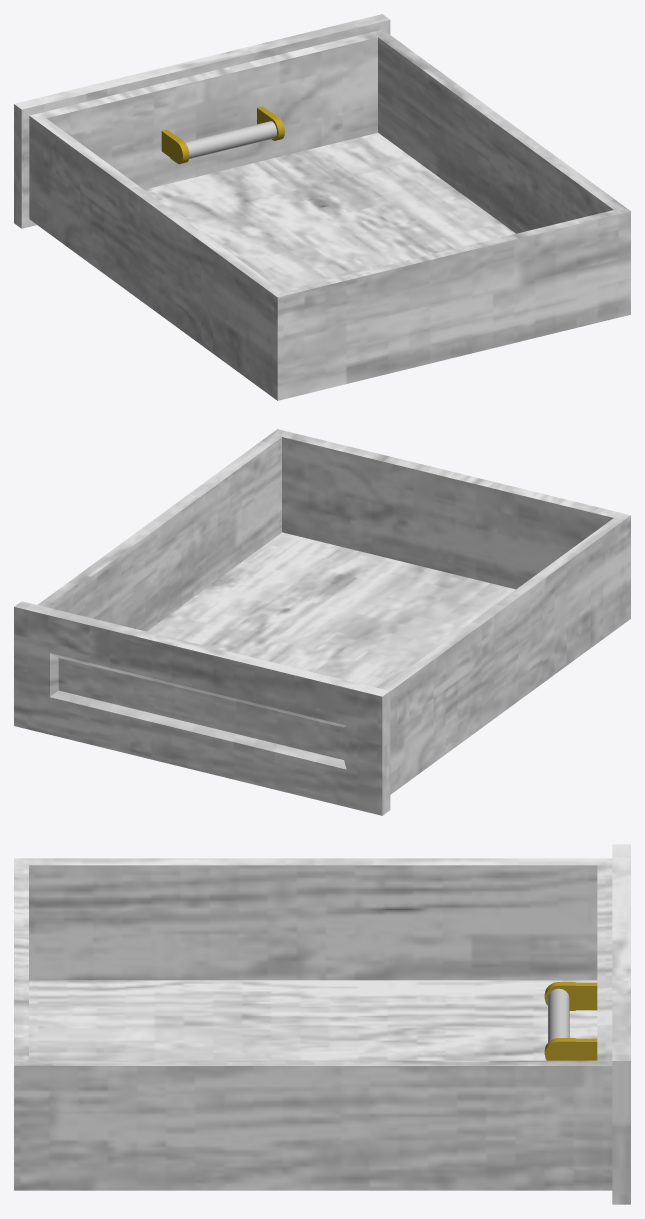
File: Drawer_4bf12548.obj
3 renders of one model, top to bottom at view 1: azimuth 30°, elevation 25°; view 2: azimuth 150°, elevation 25°; view 3: azimuth 270°, elevation 25°, orthographic. The views are drawn at different scales.
Parts seen in each view (by area): view 1: Mesh_01_7f795878, handle_2_76mm_01_47055722; view 2: Mesh_01_7f795878; view 3: Mesh_01_7f795878, handle_2_76mm_01_47055722.
Boxes of the visible parts, x1,y1,x2,y2 form: Mesh_01_7f795878: (14,14,630,400); handle_2_76mm_01_47055722: (161,106,284,164); Mesh_01_7f795878: (14,429,630,815); Mesh_01_7f795878: (14,844,630,1204); handle_2_76mm_01_47055722: (544,982,597,1060).
Size of the model in its own units: 0.275 by 0.085 by 0.331.
